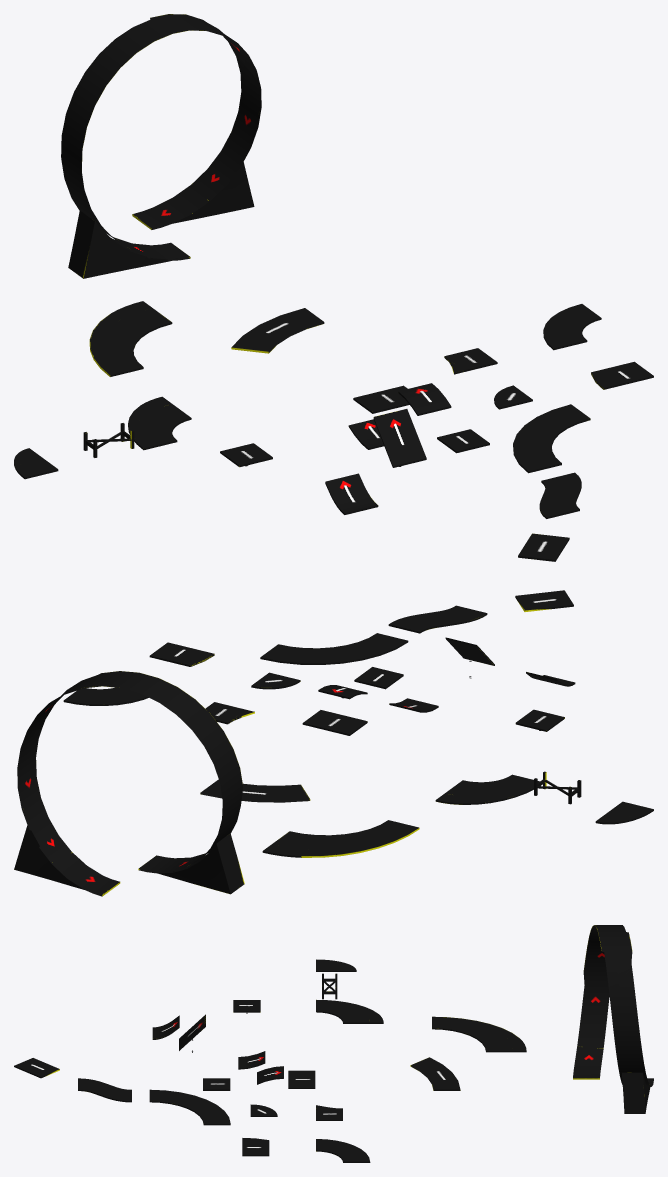
File: Without Boundary.fbx
3 renders of one model, top to bottom at view 1: azimuth 30°, elevation 25°; view 2: azimuth 150°, elevation 25°; view 3: azimuth 270°, elevation 25°, orthographic. The views are drawn at different scales.
Visible parts, largest first — view 1: loop_object4, runoff_curve3_object5, curve3_object4, runoff_curve2_object5, jump2_object5, angle_transition_object1, curve2_object4, curve4_object4, jump1_object8, ramp2_object5, runoff_transition1_object5, angled_object4 (+4 smaller); view 2: loop_object4, runoff_curve3_object5, curve3_object4, runoff_curve2_object5, curve4_object4, angle_transition_object1, curve2_object4, runoff_default_object5, runoff_transition1_object5, angled_object4, runoff_curve1_object4, default_object4 (+5 smaller); view 3: loop_object4, runoff_curve3_object5, curve3_object4, runoff_curve2_object5, angle_transition_object1, curve2_object4, curve4_object4, runoff_default_object5, angled_object4, runoff_transition1_object5, runoff_curve1_object4, runoff_transition2_object5 (+6 smaller).
Boxes of the visible parts, x1,y1,x2,y2 form: loop_object4: [61, 14, 261, 278]; runoff_curve3_object5: [89, 301, 172, 376]; curve3_object4: [513, 404, 590, 473]; runoff_curve2_object5: [128, 396, 191, 450]; jump2_object5: [373, 409, 426, 467]; angle_transition_object1: [231, 308, 324, 353]; curve2_object4: [543, 304, 601, 350]; curve4_object4: [539, 472, 581, 518]; jump1_object8: [325, 473, 378, 514]; ramp2_object5: [398, 383, 451, 415]; runoff_transition1_object5: [591, 361, 653, 389]; angled_object4: [518, 533, 569, 561]; loop_object4: [14, 671, 244, 896]; runoff_curve3_object5: [262, 820, 419, 857]; curve3_object4: [260, 633, 408, 664]; runoff_curve2_object5: [435, 774, 539, 804]; curve4_object4: [388, 605, 487, 633]; angle_transition_object1: [200, 779, 310, 802]; curve2_object4: [63, 687, 148, 705]; runoff_default_object5: [302, 710, 367, 735]; runoff_transition1_object5: [149, 642, 214, 666]; angled_object4: [515, 590, 573, 611]; runoff_curve1_object4: [595, 801, 653, 824]; default_object4: [354, 667, 403, 689]; loop_object4: [573, 925, 653, 1113]; runoff_curve3_object5: [432, 1016, 526, 1052]; curve3_object4: [149, 1089, 230, 1125]; runoff_curve2_object5: [316, 999, 383, 1023]; angle_transition_object1: [410, 1057, 460, 1090]; curve2_object4: [316, 1139, 370, 1162]; curve4_object4: [78, 1078, 131, 1102]; runoff_default_object5: [288, 1070, 315, 1088]; angled_object4: [14, 1058, 59, 1078]; runoff_transition1_object5: [242, 1138, 269, 1156]; runoff_curve1_object4: [316, 959, 356, 971]; runoff_transition2_object5: [316, 1105, 342, 1120].
Size of the model in its own units: 885149 by 300032 by 1183661.
